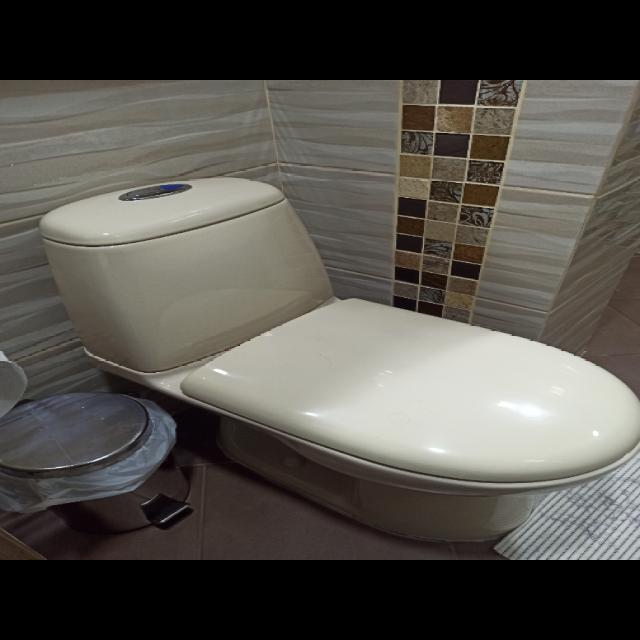toilet: (38, 176, 639, 542)
